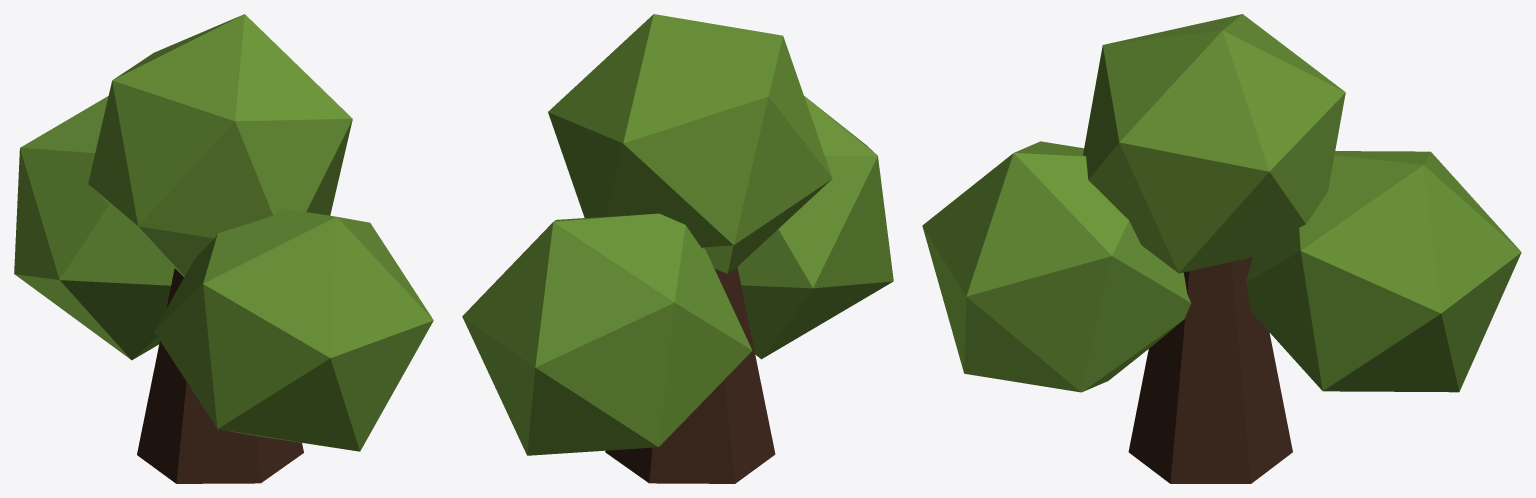
Rendered from Arbusto 1.fbx.
The picture shows the model from 3 angles, left to right: view 1: azimuth 30°, elevation 25°; view 2: azimuth 150°, elevation 25°; view 3: azimuth 270°, elevation 25°; orthographic projection.
Parts seen in each view (by area): view 1: Icosphere.005; view 2: Icosphere.005; view 3: Icosphere.005.
Part boxes in pixels (<box>): Icosphere.005: <box>14,14,433,483</box>; Icosphere.005: <box>462,14,893,483</box>; Icosphere.005: <box>922,14,1521,483</box>.
Size of the model in its own units: 179 by 329 by 409.
Materials: 2 (2 with a texture image).
